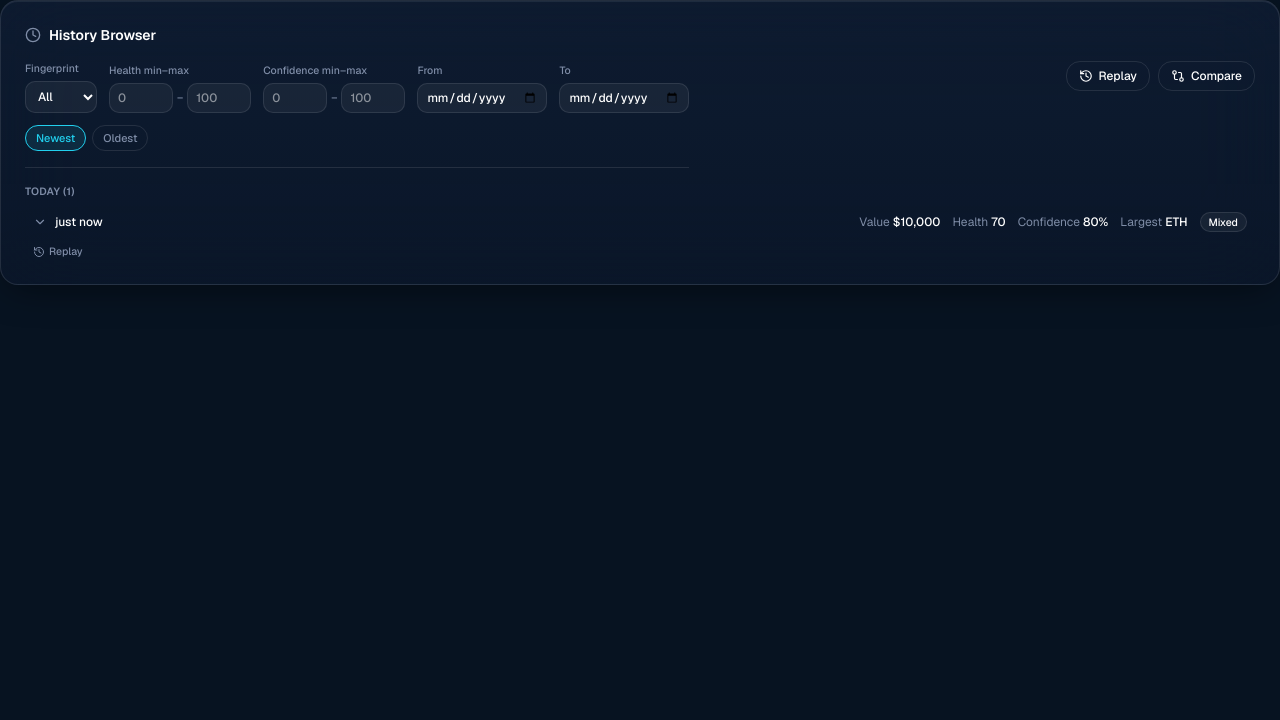
Test: HistoryBrowserSection › SELECTION / DETAIL EXPANSION: clicking a snapshot card expands it to show real stored metadata
expect the text "Snapshot Version" is not shown: met
Click the button "Health 70": [79, 222] box [25,204,1255,240]
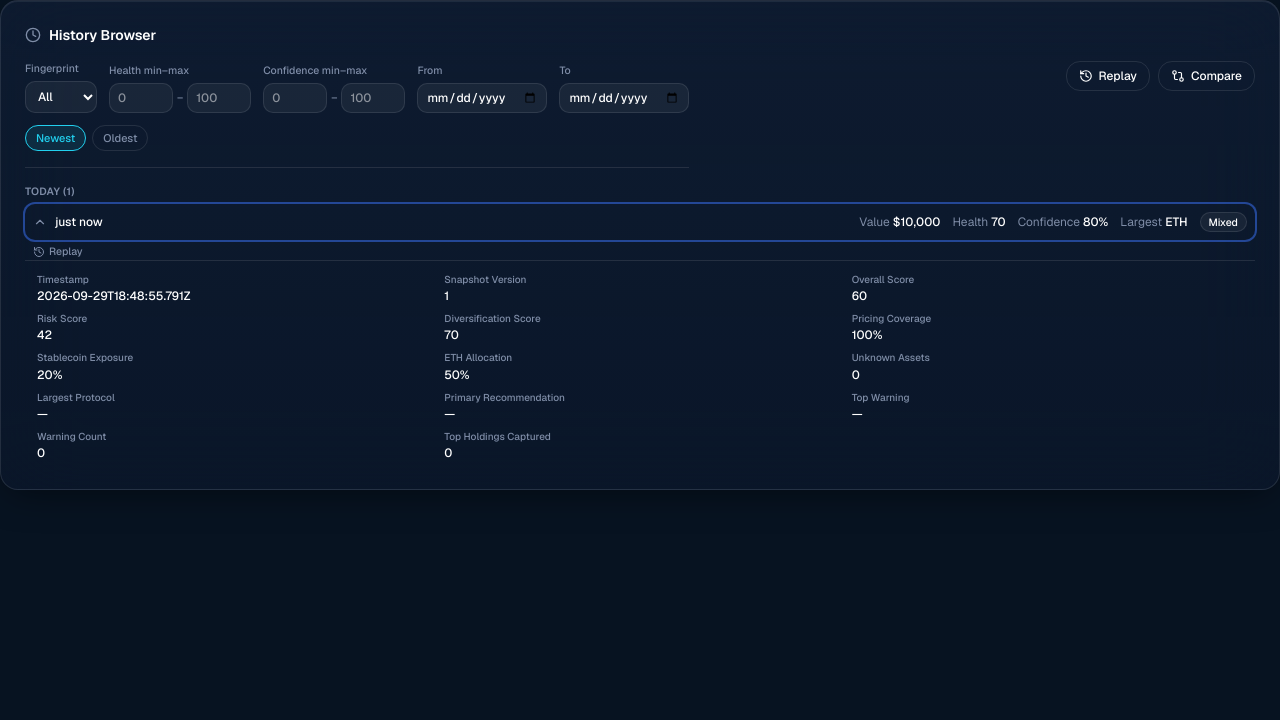
expect the button "Health 70" is expanded: met, box [25,204,1255,240]
expect the text "Snapshot Version" is shown: met, box [444,273,526,286]
expect the text "Risk Score" is shown: met, box [37,312,87,325]
